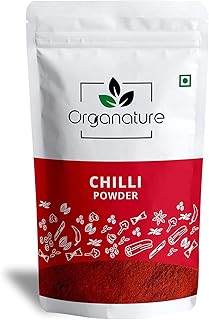Chilli Powder: (27, 6, 208, 312)
